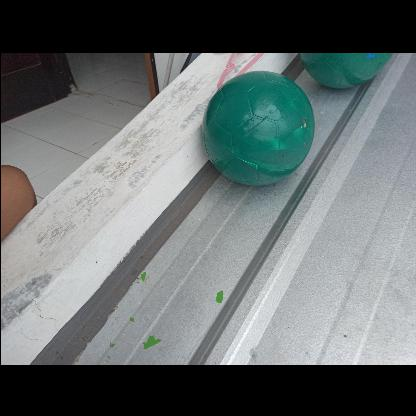green_ball: (199, 67, 315, 183)
